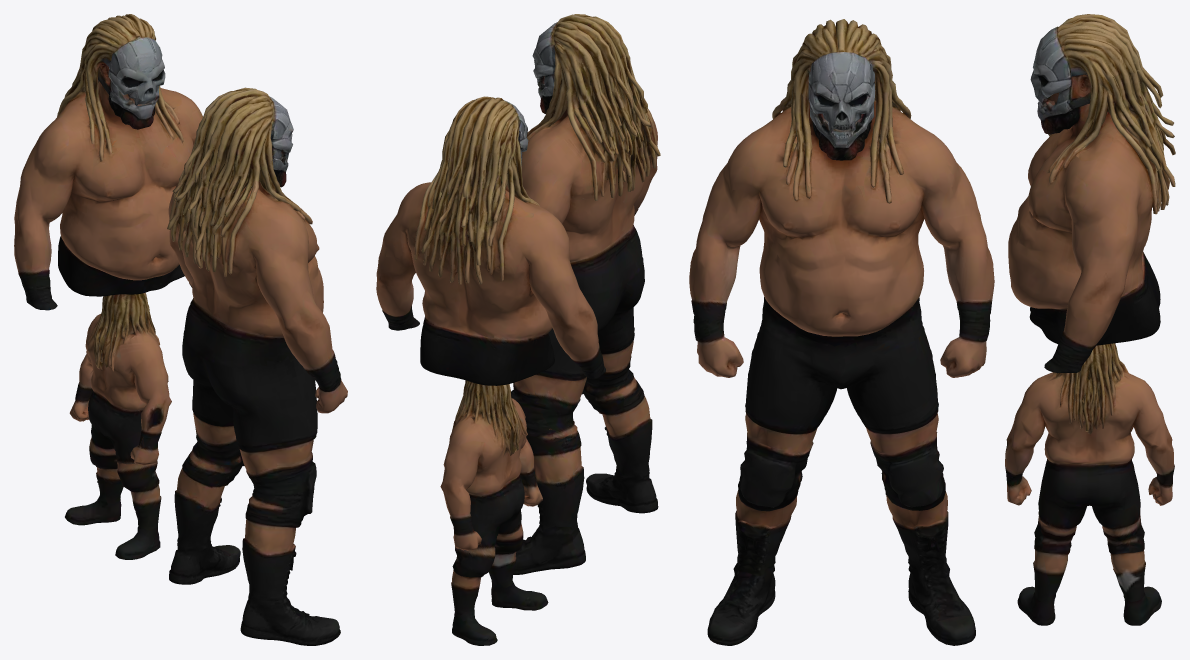
File: BANNON_muscular_rigready.glb
3 views of the same model, side by side, from view 1: azimuth 30°, elevation 25°; view 2: azimuth 150°, elevation 25°; view 3: azimuth 270°, elevation 25° (orthographic). The views are drawn at different scales.
Parts seen in each view (by area): view 1: chest, knL, shL, shR, hipR, elL, knR, hipL, ftL, elR, ftR, pelvis (+1 smaller); view 2: shR, chest, knR, hipR, knL, elR, elL, ftR, head, pelvis, ftL, shL (+1 smaller); view 3: chest, shR, knR, elR, elL, shL, knL, hipL, hipR, pelvis, ftR, ftL (+2 smaller).
Part boxes in pixels (x1,y1,x2,y2): chest: [14, 64, 315, 287]; knL: [169, 403, 317, 604]; shL: [178, 101, 319, 318]; shR: [14, 14, 202, 252]; hipR: [19, 205, 167, 382]; elL: [177, 223, 340, 386]; knR: [73, 318, 240, 571]; hipL: [193, 352, 347, 465]; ftL: [240, 569, 340, 645]; elR: [103, 206, 192, 312]; ftR: [65, 397, 160, 559]; pelvis: [127, 229, 228, 409]; shR: [378, 96, 592, 345]; chest: [520, 51, 660, 358]; knR: [444, 399, 580, 586]; hipR: [440, 296, 605, 517]; knL: [511, 344, 652, 565]; elR: [376, 212, 562, 396]; elL: [562, 157, 657, 297]; ftR: [451, 519, 548, 645]; head: [532, 14, 618, 95]; pelvis: [511, 217, 625, 408]; ftL: [586, 438, 658, 513]; shL: [532, 16, 657, 231]; chest: [799, 58, 1071, 258]; shR: [947, 14, 1175, 288]; knR: [927, 371, 1174, 645]; elR: [944, 182, 1169, 377]; elL: [689, 180, 935, 346]; shL: [711, 24, 921, 278]; knL: [735, 380, 936, 635]; hipL: [694, 326, 904, 446]; hipR: [1017, 251, 1173, 467]; pelvis: [842, 218, 977, 458]; ftR: [1017, 470, 1173, 625]; ftL: [707, 522, 789, 645].
Bounding box in the file's own units: 0.4355 × 1 × 0.7332.
1 material, 1 textured.
